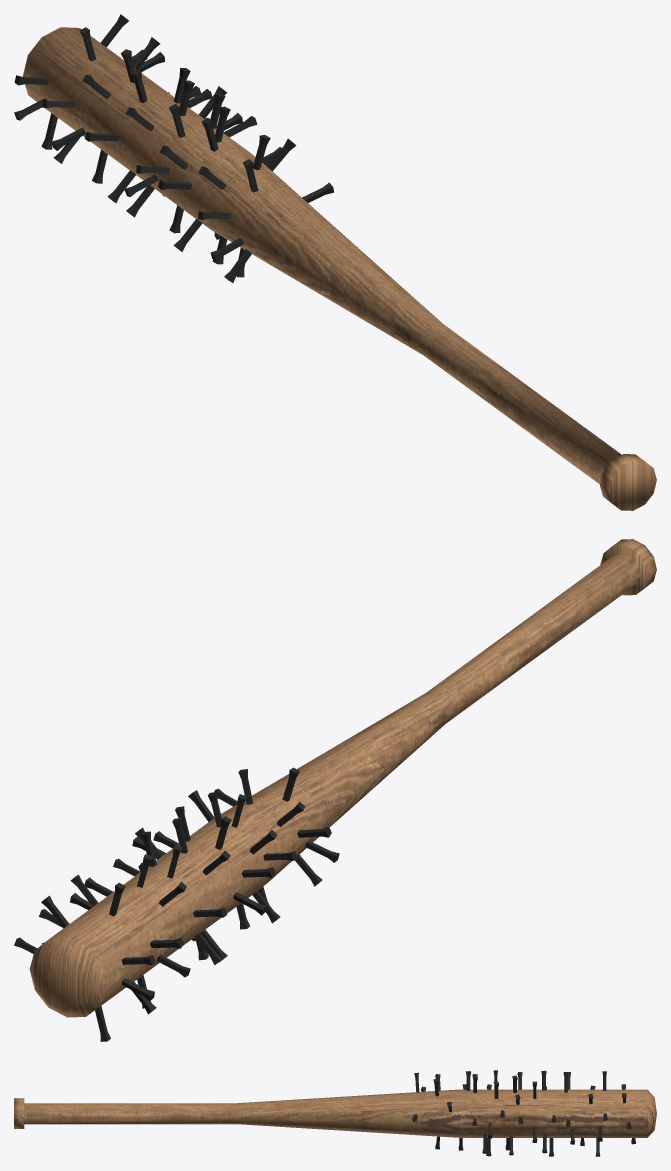
The model's file is Thief_Bat.fbx.
The picture shows the model from 3 angles, top to bottom: view 1: azimuth 30°, elevation 25°; view 2: azimuth 150°, elevation 25°; view 3: azimuth 270°, elevation 25°; orthographic projection. The views are drawn at different scales.
Parts seen in each view (by area): view 1: BaseballBatWithNailsShape; view 2: BaseballBatWithNailsShape; view 3: BaseballBatWithNailsShape.
Part boxes in pixels (box(x1,y1,x2,y2)): BaseballBatWithNailsShape: box(14, 14, 656, 510); BaseballBatWithNailsShape: box(14, 539, 656, 1041); BaseballBatWithNailsShape: box(14, 1070, 656, 1156).
Size of the model in its own units: 65.25 by 65.31 by 483.
Materials: 2 (1 with a texture image).
